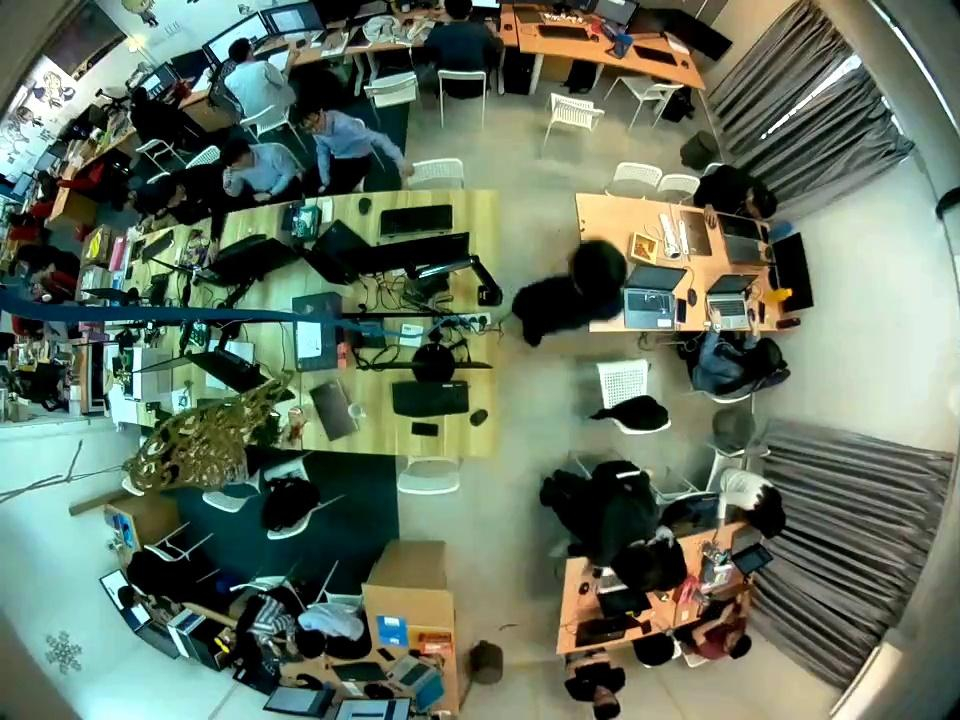people: (541, 457, 663, 601), (509, 226, 631, 358), (691, 312, 799, 408), (290, 91, 390, 192), (706, 459, 784, 567), (418, 0, 508, 89), (200, 129, 293, 206), (688, 159, 780, 236), (220, 38, 297, 129), (138, 162, 223, 237), (677, 601, 771, 668), (288, 604, 389, 666), (111, 78, 194, 153), (226, 597, 297, 673), (107, 550, 172, 632), (561, 651, 636, 720), (106, 180, 151, 240)
